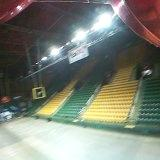Yellow_Circle_GShape: (32, 86, 45, 100)
